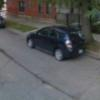cars: (27, 27, 85, 60)
